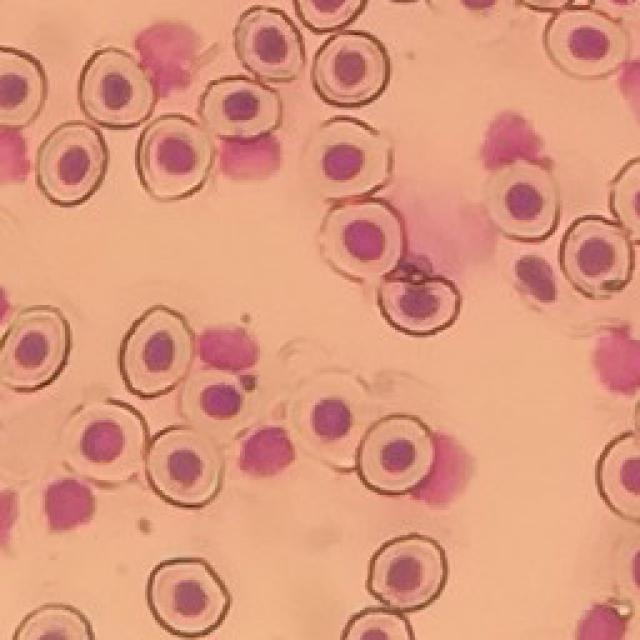RBC: (288, 371, 370, 470), (61, 401, 148, 482), (120, 308, 194, 399), (306, 119, 390, 198), (149, 559, 230, 638), (321, 201, 402, 279), (138, 116, 212, 201), (356, 416, 435, 495), (146, 428, 222, 508), (368, 536, 448, 611), (180, 369, 262, 442), (486, 160, 559, 242), (0, 307, 70, 391), (312, 32, 389, 108), (80, 50, 154, 129), (560, 218, 632, 299), (544, 9, 628, 78), (39, 124, 108, 206), (235, 8, 302, 81), (201, 79, 281, 139), (379, 279, 461, 336), (0, 48, 46, 128), (598, 434, 640, 521), (12, 605, 94, 640), (610, 159, 640, 244), (294, 0, 368, 34), (341, 609, 414, 639)
WBC: (135, 24, 198, 98), (410, 434, 472, 509), (481, 113, 551, 171), (594, 329, 640, 395), (220, 134, 280, 180), (240, 428, 294, 476), (199, 329, 259, 372), (45, 480, 94, 531), (516, 257, 556, 302), (578, 605, 626, 640), (0, 128, 30, 182)
